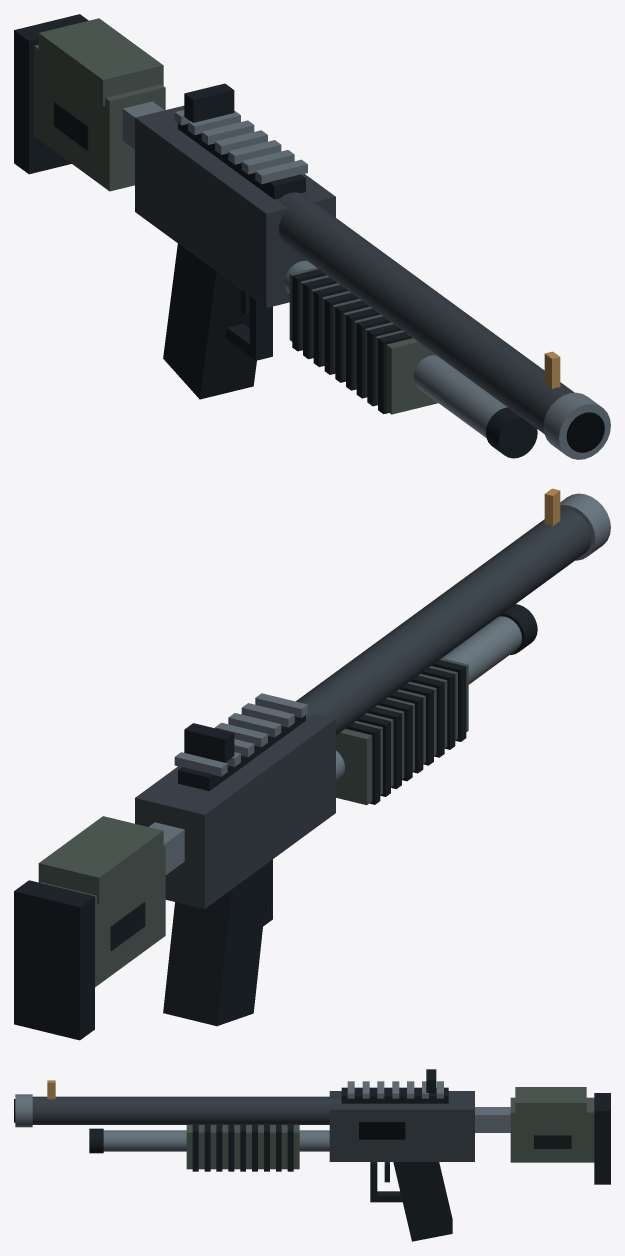
The model's file is FSA_WPN_Shotgun_001_Breacher.glb.
3 views of the same model, one above another, from view 1: azimuth 30°, elevation 25°; view 2: azimuth 150°, elevation 25°; view 3: azimuth 270°, elevation 25° (orthographic). The views are drawn at different scales.
Parts seen in each view (by area): view 1: Receiver, Barrel, GripCore, StockBody, StockCheek, Pump, ButtPad, MagazineTube, MuzzleCrown, TubeCap, RearSight, RailBase (+20 smaller); view 2: Receiver, Barrel, ButtPad, GripCore, StockCheek, StockBody, Pump, MagazineTube, RearSight, MuzzleCrown, RailBase, StockTube (+12 smaller); view 3: Barrel, Receiver, StockBody, GripCore, Pump, MagazineTube, StockCheek, ButtPad, RailBase, StockTube, Port, MuzzleCrown (+14 smaller).
Part boxes in pixels (left/top/right/bottom): Receiver: left=135, top=105, right=335, bottom=307; Barrel: left=276, top=192, right=574, bottom=433; GripCore: left=163, top=243, right=256, bottom=399; StockBody: left=34, top=44, right=165, bottom=191; StockCheek: left=38, top=18, right=163, bottom=106; Pump: left=289, top=267, right=438, bottom=414; ButtPad: left=14, top=14, right=88, bottom=174; MagazineTube: left=284, top=260, right=507, bottom=437; MuzzleCrown: left=543, top=392, right=610, bottom=459; TubeCap: left=486, top=407, right=537, bottom=458; RearSight: left=184, top=83, right=234, bottom=122; RailBase: left=178, top=123, right=305, bottom=199; Receiver: left=135, top=713, right=335, bottom=908; Barrel: left=296, top=509, right=591, bottom=735; ButtPad: left=14, top=880, right=94, bottom=1040; GripCore: left=163, top=861, right=269, bottom=1026; StockCheek: left=38, top=816, right=163, bottom=903; StockBody: left=40, top=845, right=165, bottom=987; Pump: left=336, top=658, right=468, bottom=805; MagazineTube: left=336, top=616, right=521, bottom=781; RearSight: left=184, top=723, right=234, bottom=762; MuzzleCrown: left=560, top=493, right=610, bottom=560; RailBase: left=178, top=715, right=305, bottom=791; StockTube: left=149, top=822, right=184, bottom=874; Barrel: left=32, top=1096, right=341, bottom=1124; Receiver: left=329, top=1091, right=474, bottom=1161; StockBody: left=510, top=1097, right=594, bottom=1162; GripCore: left=393, top=1162, right=452, bottom=1241; Pump: left=186, top=1125, right=299, bottom=1169; MagazineTube: left=103, top=1130, right=329, bottom=1151; StockCheek: left=515, top=1087, right=586, bottom=1117; ButtPad: left=594, top=1093, right=610, bottom=1184; RailBase: left=341, top=1087, right=448, bottom=1103; StockTube: left=475, top=1107, right=510, bottom=1132; Port: left=359, top=1122, right=405, bottom=1139; MuzzleCrown: left=15, top=1094, right=32, bottom=1127.
Bounding box in the file's own units: 0.089 × 0.2966 × 1.01.
